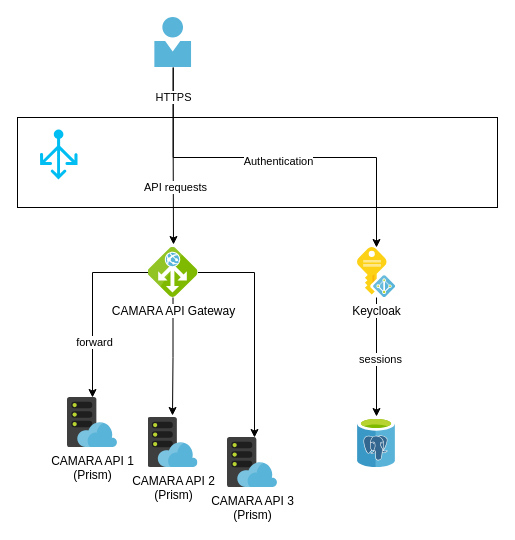
Image size: 515x540. Some labels were removed from this diagram. Here are the shapes that lost their labels. From the top down, the centre of each, then its label:
At [58,154]: "Nginx".
At [376,442]: "Postgres".
